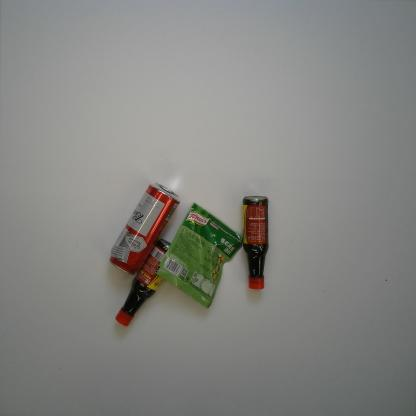Alcohol: (108, 181, 181, 276)
Seasoner: (154, 202, 244, 309), (114, 237, 174, 327), (241, 195, 270, 290)
